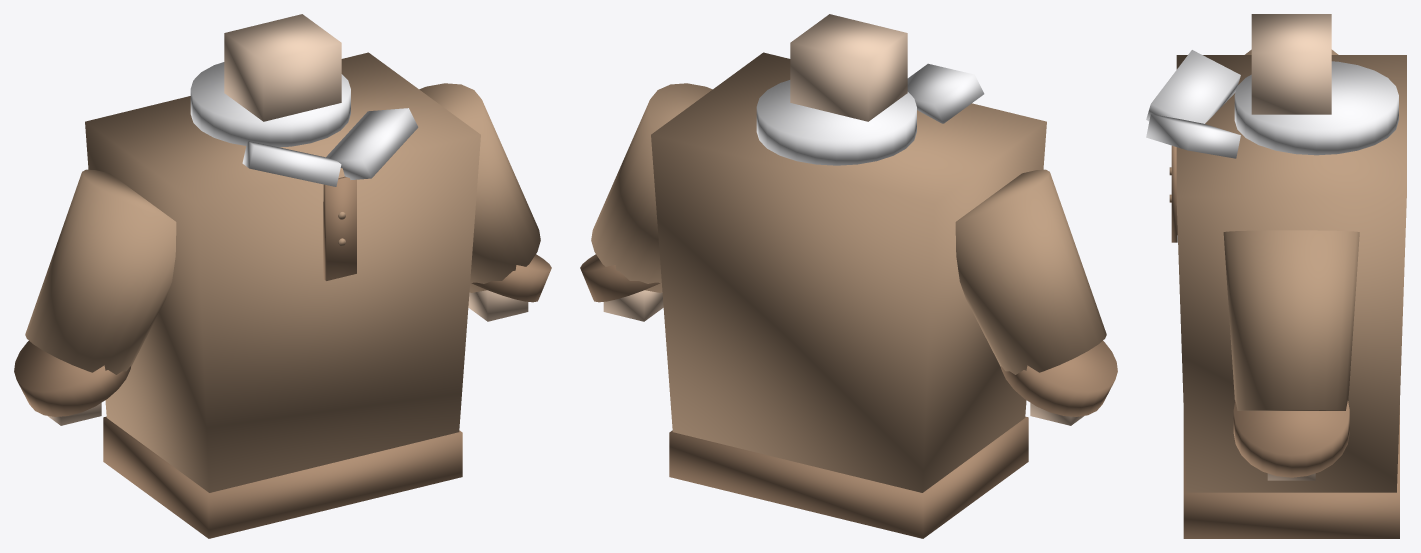
The model's file is row4_06_polo_brown.glb.
3 views of the same model, side by side, from view 1: azimuth 30°, elevation 25°; view 2: azimuth 150°, elevation 25°; view 3: azimuth 270°, elevation 25° (orthographic). The views are drawn at different scales.
Parts seen in each view (by area): view 1: Torso_06_polo_brown, Sleeve_R_06_polo_brown, Hem_06_polo_brown, Neck_06_polo_brown, Sleeve_L_06_polo_brown, Collar_Back_06_polo_brown, Cuff_R_06_polo_brown, Collar_Wing_L_06_polo_brown, V_Placket_06_polo_brown, Collar_Wing_R_06_polo_brown, Cuff_L_06_polo_brown, Wrist_L_06_polo_brown; view 2: Torso_06_polo_brown, Sleeve_R_06_polo_brown, Hem_06_polo_brown, Neck_06_polo_brown, Sleeve_L_06_polo_brown, Collar_Back_06_polo_brown, Cuff_R_06_polo_brown, Collar_Wing_R_06_polo_brown, Cuff_L_06_polo_brown, Wrist_L_06_polo_brown; view 3: Torso_06_polo_brown, Sleeve_L_06_polo_brown, Hem_06_polo_brown, Collar_Back_06_polo_brown, Neck_06_polo_brown, Cuff_L_06_polo_brown, Collar_Wing_R_06_polo_brown, Collar_Wing_L_06_polo_brown, V_Placket_06_polo_brown.
Part boxes in pixels (x1,y1,x2,y2): Torso_06_polo_brown: (85, 52, 480, 492); Sleeve_R_06_polo_brown: (25, 169, 176, 374); Hem_06_polo_brown: (103, 416, 462, 538); Neck_06_polo_brown: (224, 14, 341, 121); Sleeve_L_06_polo_brown: (419, 83, 540, 292); Collar_Back_06_polo_brown: (190, 62, 350, 147); Cuff_R_06_polo_brown: (14, 341, 130, 416); Collar_Wing_L_06_polo_brown: (326, 108, 418, 179); V_Placket_06_polo_brown: (323, 176, 356, 280); Collar_Wing_R_06_polo_brown: (242, 140, 341, 186); Cuff_L_06_polo_brown: (471, 254, 551, 302); Wrist_L_06_polo_brown: (468, 290, 528, 321); Torso_06_polo_brown: (651, 52, 1046, 492); Sleeve_R_06_polo_brown: (955, 169, 1106, 374); Hem_06_polo_brown: (669, 416, 1028, 538); Neck_06_polo_brown: (790, 14, 907, 121); Sleeve_L_06_polo_brown: (591, 83, 712, 292); Collar_Back_06_polo_brown: (756, 80, 916, 165); Cuff_R_06_polo_brown: (1001, 341, 1117, 416); Collar_Wing_R_06_polo_brown: (907, 63, 984, 123); Cuff_L_06_polo_brown: (580, 254, 660, 302); Wrist_L_06_polo_brown: (603, 290, 663, 321); Torso_06_polo_brown: (1176, 55, 1406, 492); Sleeve_L_06_polo_brown: (1223, 230, 1359, 410); Hem_06_polo_brown: (1183, 405, 1399, 538); Collar_Back_06_polo_brown: (1234, 61, 1398, 155); Neck_06_polo_brown: (1251, 14, 1331, 114); Cuff_L_06_polo_brown: (1233, 400, 1349, 477); Collar_Wing_R_06_polo_brown: (1146, 50, 1240, 123); Collar_Wing_L_06_polo_brown: (1146, 114, 1240, 158); V_Placket_06_polo_brown: (1171, 145, 1177, 242).
Size of the model in its own units: 0.6157 by 0.487 by 0.2604.
